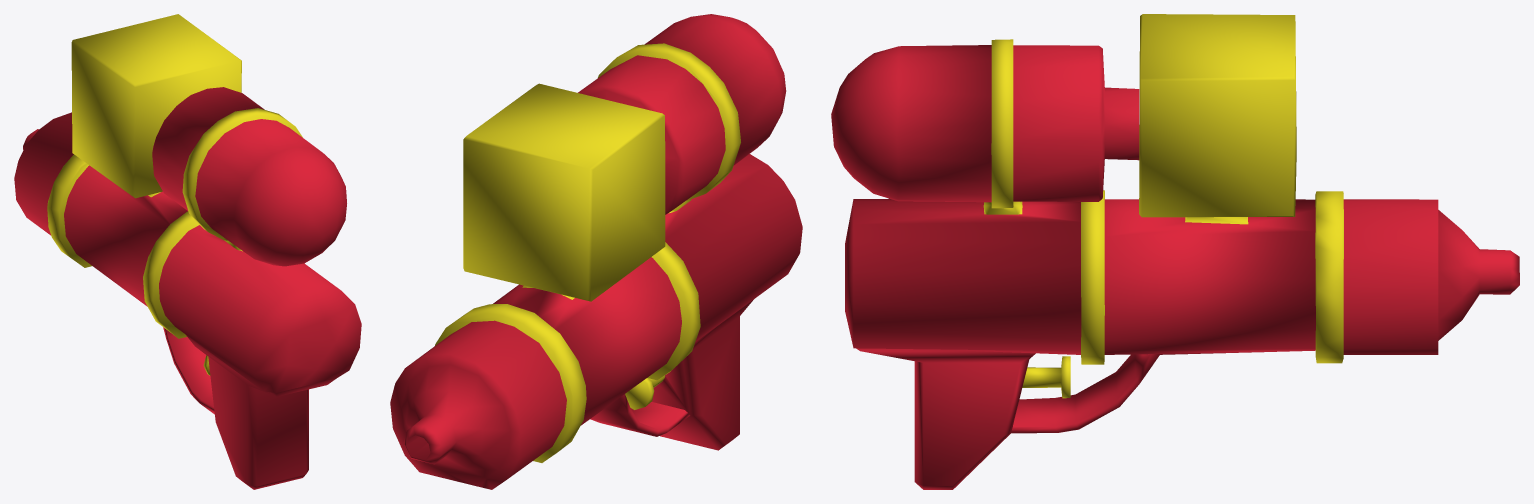
File: BMBWaterGunV3.fbx
The picture shows the model from 3 angles, left to right: view 1: azimuth 30°, elevation 25°; view 2: azimuth 150°, elevation 25°; view 3: azimuth 270°, elevation 25°; orthographic projection. The views are drawn at different scales.
Visible parts, largest first — view 1: BMBWaterGun; view 2: BMBWaterGun; view 3: BMBWaterGun.
Part boxes in pixels (box(x1,y1,x2,y2)): BMBWaterGun: box(14, 14, 361, 489); BMBWaterGun: box(390, 14, 802, 489); BMBWaterGun: box(831, 14, 1519, 489).
Bounding box in the file's own units: 224 × 603 × 878.
